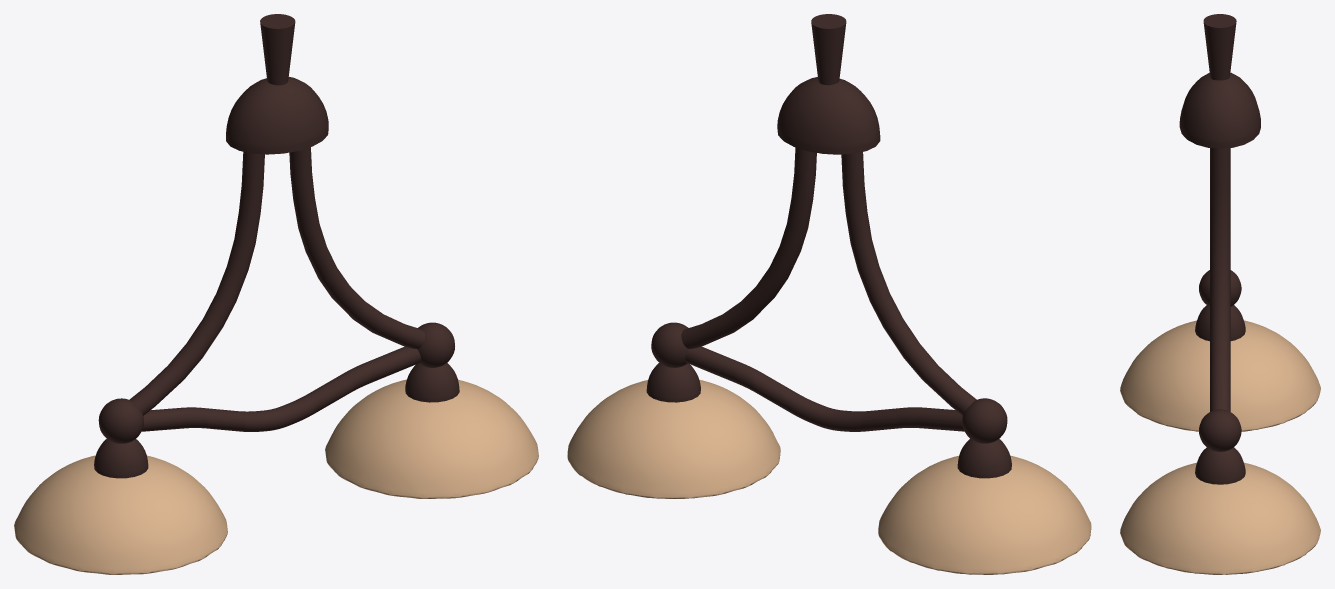
File: Lustre4_3.fbx
3 views of the same model, side by side, from view 1: azimuth 30°, elevation 25°; view 2: azimuth 150°, elevation 25°; view 3: azimuth 270°, elevation 25° (orthographic). The views are drawn at different scales.
Visible parts, largest first — view 1: pSphere158, pSphere159, pCylinder1322, pSphere154, pCylinder1325, pCylinder1323, pCylinder1324, pSphere156, pSphere157, pSphere153, pSphere160; view 2: pSphere159, pSphere158, pCylinder1322, pSphere154, pCylinder1325, pCylinder1323, pCylinder1324, pSphere156, pSphere157, pSphere153, pSphere160; view 3: pSphere158, pSphere159, pCylinder1323, pSphere154, pCylinder1324, pSphere157, pSphere160, pSphere156, pSphere153.
Boxes of the visible parts, box(x1,y1,x2,y2) form: pSphere158: box(325, 379, 538, 498); pSphere159: box(14, 455, 227, 574); pCylinder1322: box(129, 151, 264, 415); pSphere154: box(226, 77, 328, 154); pCylinder1325: box(142, 346, 421, 431); pCylinder1323: box(289, 147, 425, 348); pCylinder1324: box(260, 14, 295, 85); pSphere156: box(94, 439, 148, 478); pSphere157: box(405, 363, 459, 402); pSphere153: box(98, 398, 143, 443); pSphere160: box(417, 322, 454, 367); pSphere159: box(878, 455, 1091, 574); pSphere158: box(567, 380, 780, 498); pCylinder1322: box(841, 152, 976, 415); pSphere154: box(777, 77, 880, 154); pCylinder1325: box(685, 346, 964, 431); pCylinder1323: box(681, 147, 816, 348); pCylinder1324: box(811, 14, 846, 85); pSphere156: box(957, 439, 1011, 478); pSphere157: box(646, 363, 700, 402); pSphere153: box(962, 398, 1007, 443); pSphere160: box(651, 322, 688, 367); pSphere158: box(1120, 462, 1320, 574); pSphere159: box(1120, 320, 1320, 431); pCylinder1323: box(1210, 148, 1230, 411); pSphere154: box(1179, 72, 1260, 148); pCylinder1324: box(1203, 14, 1236, 80); pSphere157: box(1195, 447, 1245, 484); pSphere160: box(1199, 409, 1241, 451); pSphere156: box(1195, 305, 1245, 341); pSphere153: box(1199, 270, 1241, 306).
Bounding box in the file's own units: 44.79 × 41.96 × 16.74.
